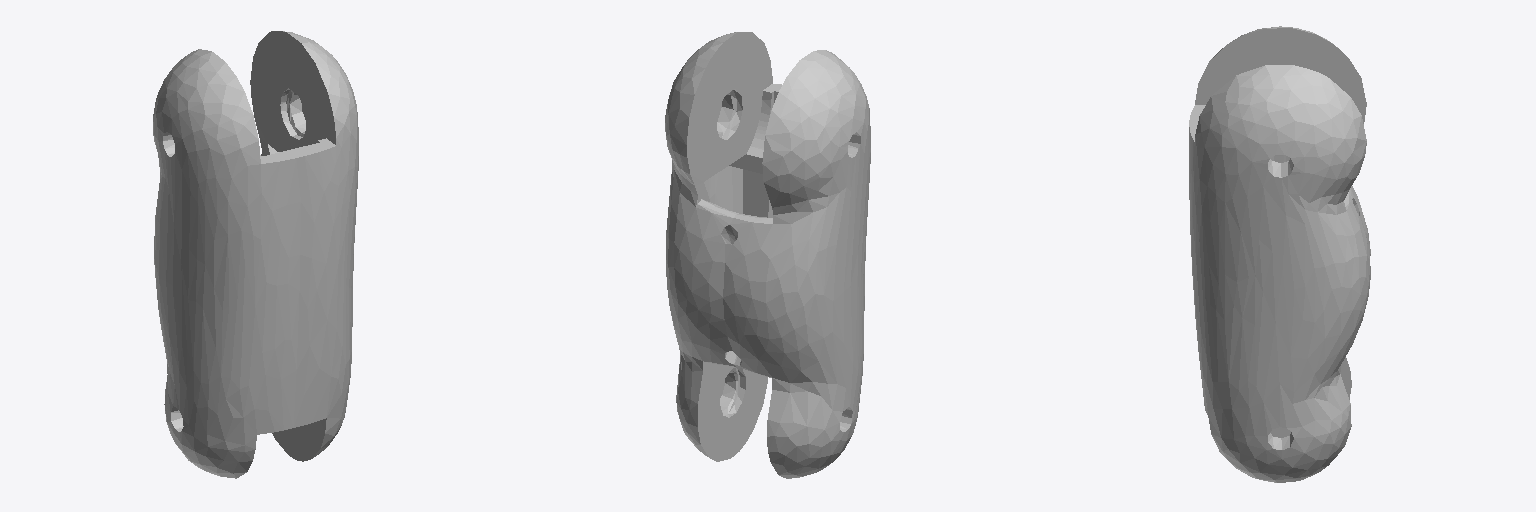
Rendered from armar-7_middle_proximal_phalanx.obj.
3 renders of one model, left to right at view 1: azimuth 30°, elevation 25°; view 2: azimuth 150°, elevation 25°; view 3: azimuth 270°, elevation 25°, orthographic.
Size of the model in its own units: 0.023 by 0.0532 by 0.0209.